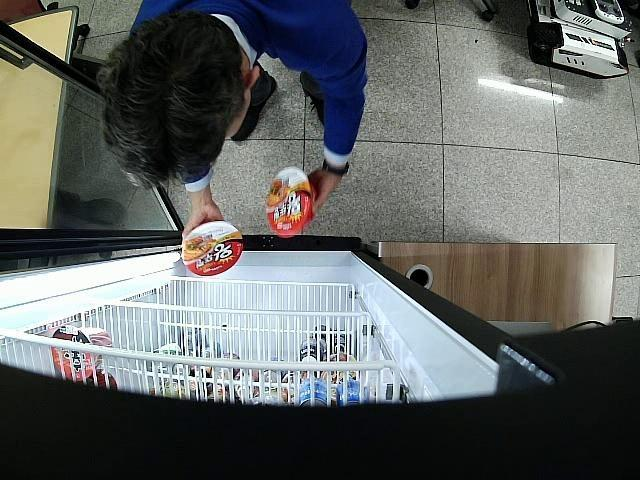10_wangTtukkeong: (266, 166, 316, 238), (183, 222, 244, 276)
